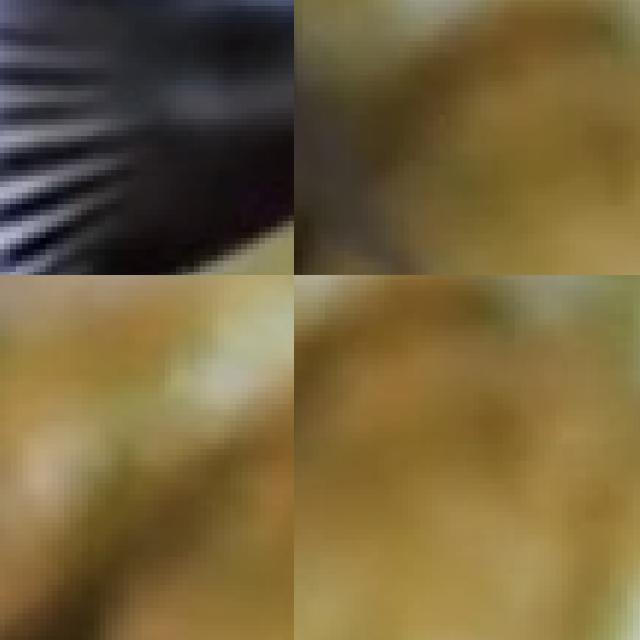fish: (0, 0, 294, 275), (294, 0, 557, 275)
